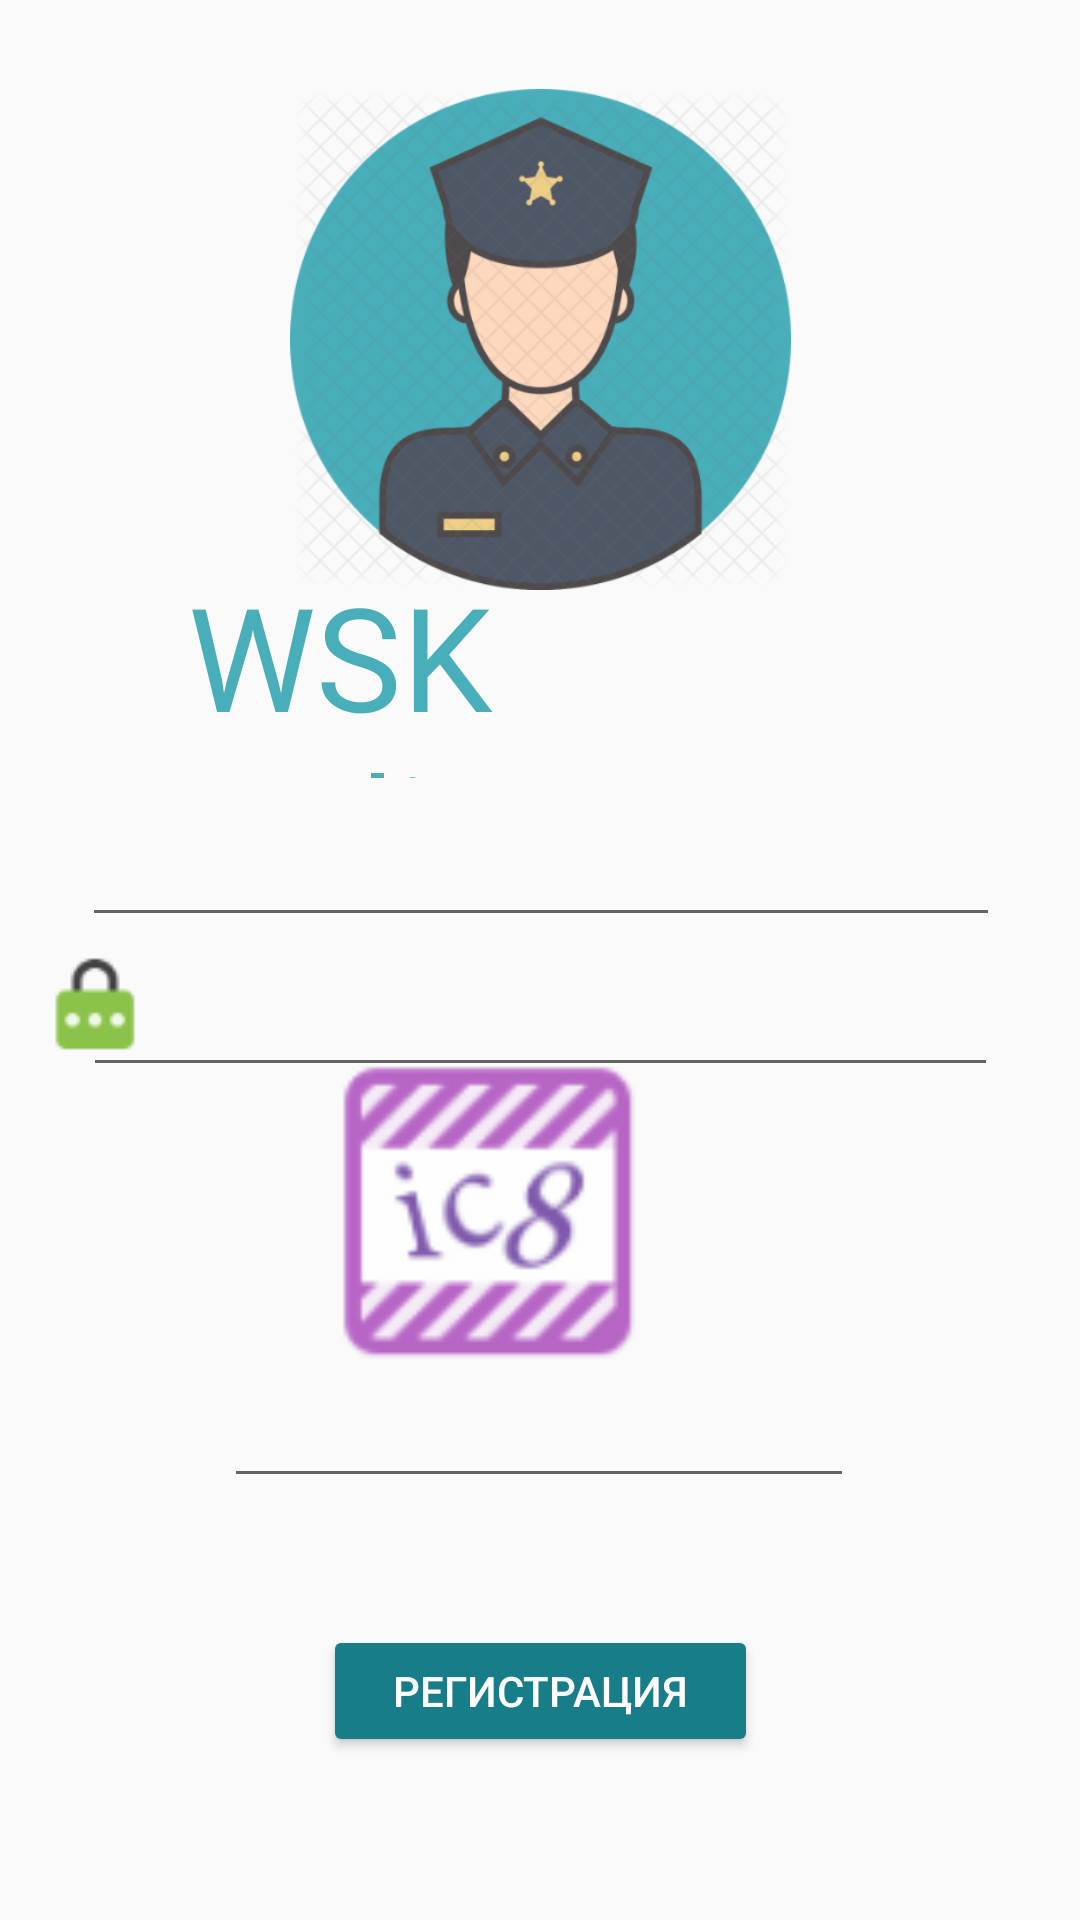

Screen size 1080w x 1920h. Icon name, then its box in pixels as (x1, y1, x2, y2):
lock: (55, 958, 135, 1050)
